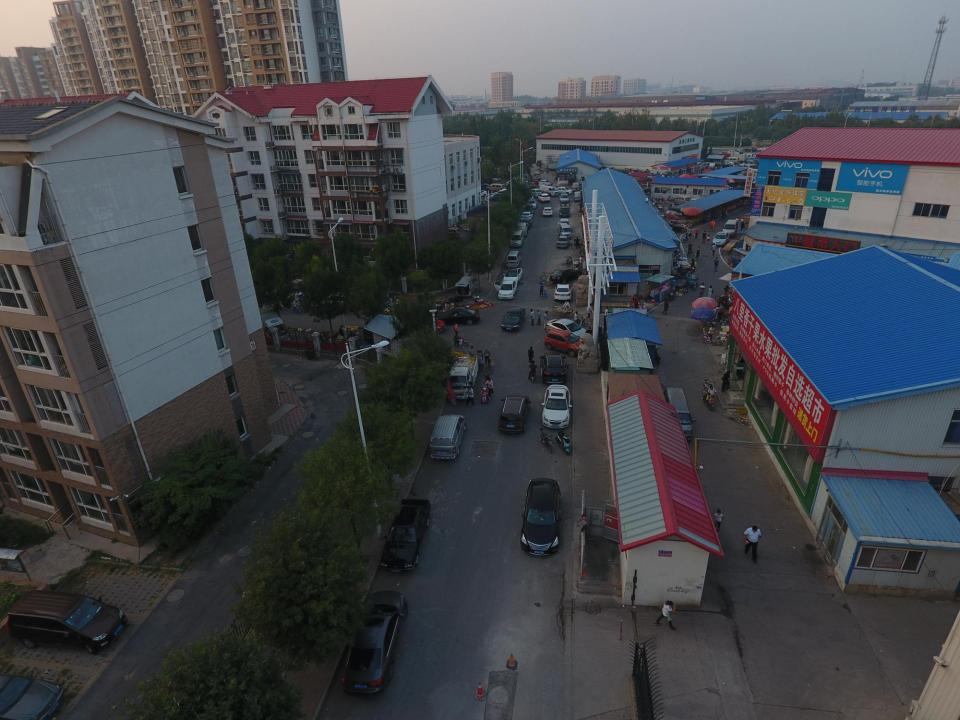car: (5, 590, 127, 654), (337, 588, 407, 697), (378, 498, 432, 573), (520, 478, 562, 556), (0, 673, 66, 719), (497, 393, 532, 434), (541, 384, 572, 430), (543, 329, 588, 358), (546, 318, 590, 341), (309, 292, 359, 312), (539, 352, 567, 384), (499, 306, 526, 332), (549, 268, 583, 284), (493, 279, 517, 299), (502, 266, 523, 286), (553, 284, 572, 302), (438, 227, 461, 241), (711, 231, 729, 247), (506, 250, 522, 267), (556, 235, 570, 249), (518, 219, 534, 229), (558, 205, 570, 218), (558, 218, 570, 229), (543, 207, 554, 219), (524, 202, 534, 213), (525, 199, 537, 208), (521, 212, 534, 220)
truck: (247, 307, 291, 346), (446, 355, 478, 401), (455, 274, 479, 298)
van: (662, 387, 696, 442), (428, 413, 466, 460), (722, 219, 739, 238), (509, 230, 524, 248), (558, 222, 572, 240), (516, 222, 528, 236)
